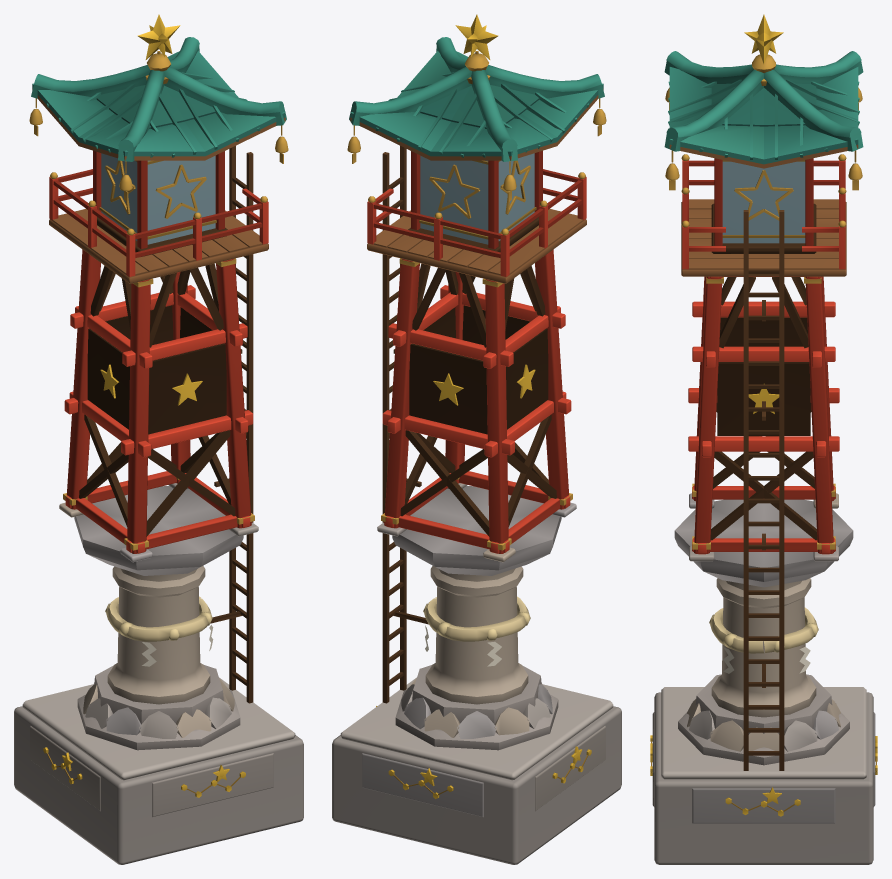
File: star-lamp.glb
3 views of the same model, side by side, from view 1: azimuth 30°, elevation 25°; view 2: azimuth 150°, elevation 25°; view 3: azimuth 270°, elevation 25° (orthographic).
Visible parts, largest first — view 1: Star lamp Plaster, Star lamp Vermilion, Star lamp Wood, Star lamp Copper roof, Star lamp Lamp glass, Star lamp Brass, Star lamp Lamp star; view 2: Star lamp Plaster, Star lamp Vermilion, Star lamp Wood, Star lamp Copper roof, Star lamp Lamp glass, Star lamp Brass, Star lamp Lamp star; view 3: Star lamp Plaster, Star lamp Wood, Star lamp Vermilion, Star lamp Copper roof, Star lamp Lamp glass, Star lamp Brass, Star lamp Lamp star.
Part boxes in pixels (x1,y1,x2,y2): Star lamp Plaster: [14, 483, 303, 864]; Star lamp Vermilion: [49, 150, 268, 553]; Star lamp Wood: [32, 89, 285, 703]; Star lamp Copper roof: [31, 37, 286, 161]; Star lamp Lamp glass: [101, 153, 215, 244]; Star lamp Brass: [29, 51, 288, 793]; Star lamp Lamp star: [43, 14, 245, 797]; Star lamp Plaster: [332, 483, 621, 864]; Star lamp Vermilion: [367, 150, 586, 553]; Star lamp Wood: [350, 89, 603, 703]; Star lamp Copper roof: [349, 37, 604, 161]; Star lamp Lamp glass: [420, 153, 534, 244]; Star lamp Brass: [347, 51, 606, 794]; Star lamp Lamp star: [376, 14, 591, 798]; Star lamp Plaster: [652, 493, 875, 864]; Star lamp Wood: [669, 144, 858, 770]; Star lamp Vermilion: [682, 158, 845, 554]; Star lamp Copper roof: [664, 51, 863, 164]; Star lamp Lamp glass: [722, 161, 805, 243]; Star lamp Brass: [651, 54, 876, 811]; Star lamp Lamp star: [650, 14, 877, 816].
Bounding box in the file's own units: 2.7 × 10.56 × 2.7.
